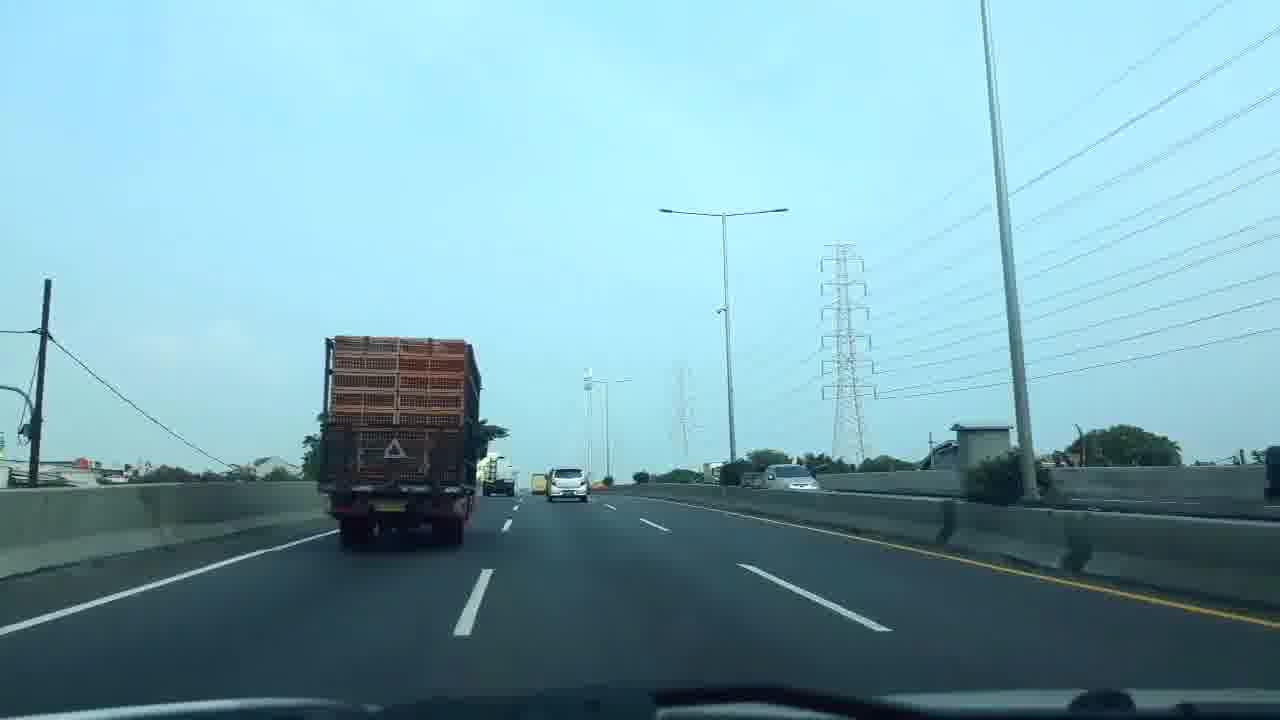plate_positive: (374, 501, 406, 512), (563, 491, 575, 496)
